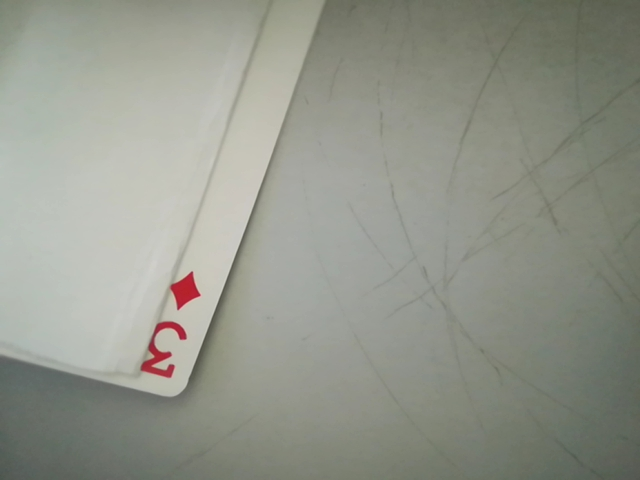fk 3: (128, 268, 211, 393)
